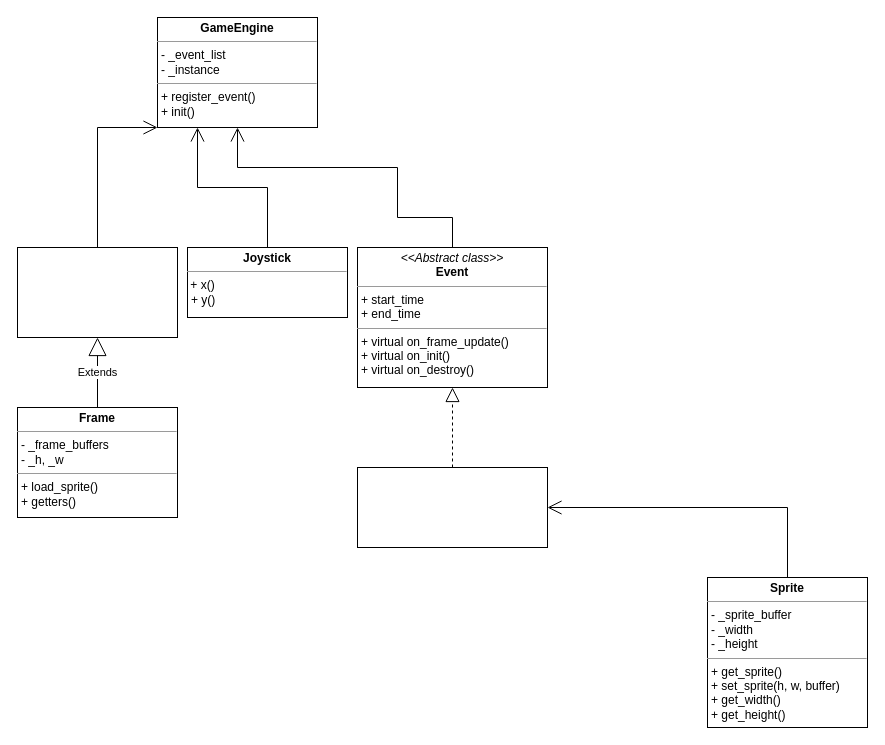
Image size: 885x745. Some labels were removed from this diagram. The shapes that lost their labels are listed below. From the top down, each one's centre as x and y in pixels, then its label:
the point at 97,292: Display - _pins - spi_writes() + load_frame()
the point at 452,507: <<Abstract class>> Drawable + sprite - layer
